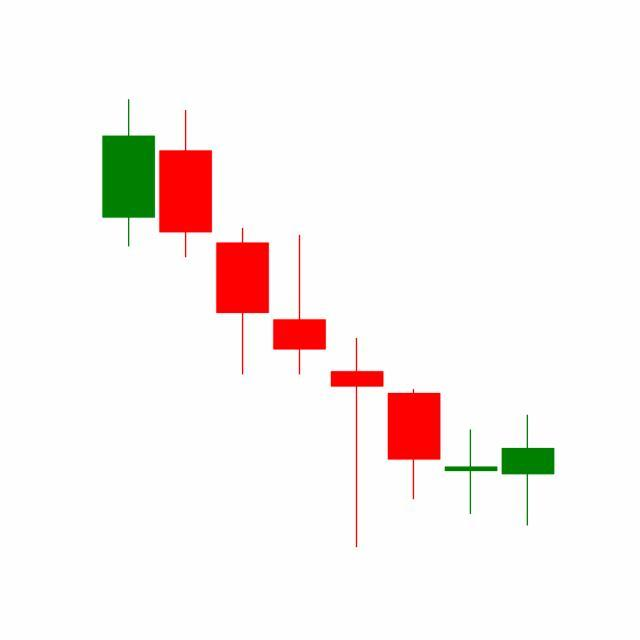Hikkake Pattern: (214, 224, 501, 549)
